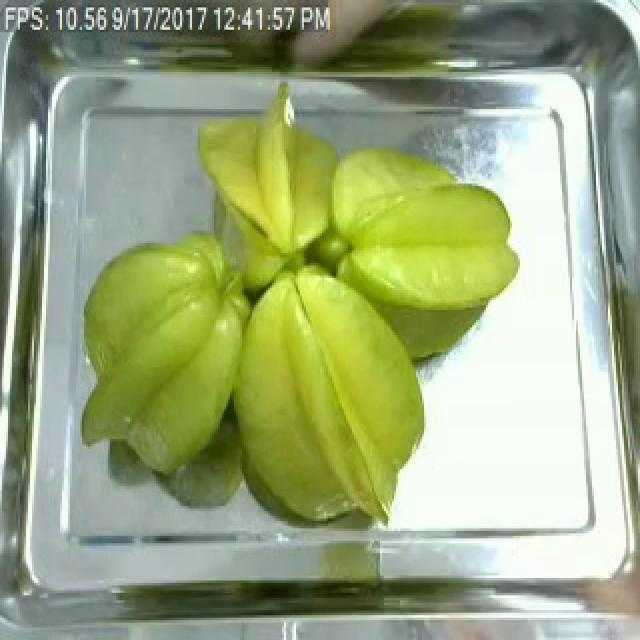fruit: (212, 250, 440, 536), (70, 228, 256, 491), (318, 139, 528, 325), (190, 90, 352, 266)
